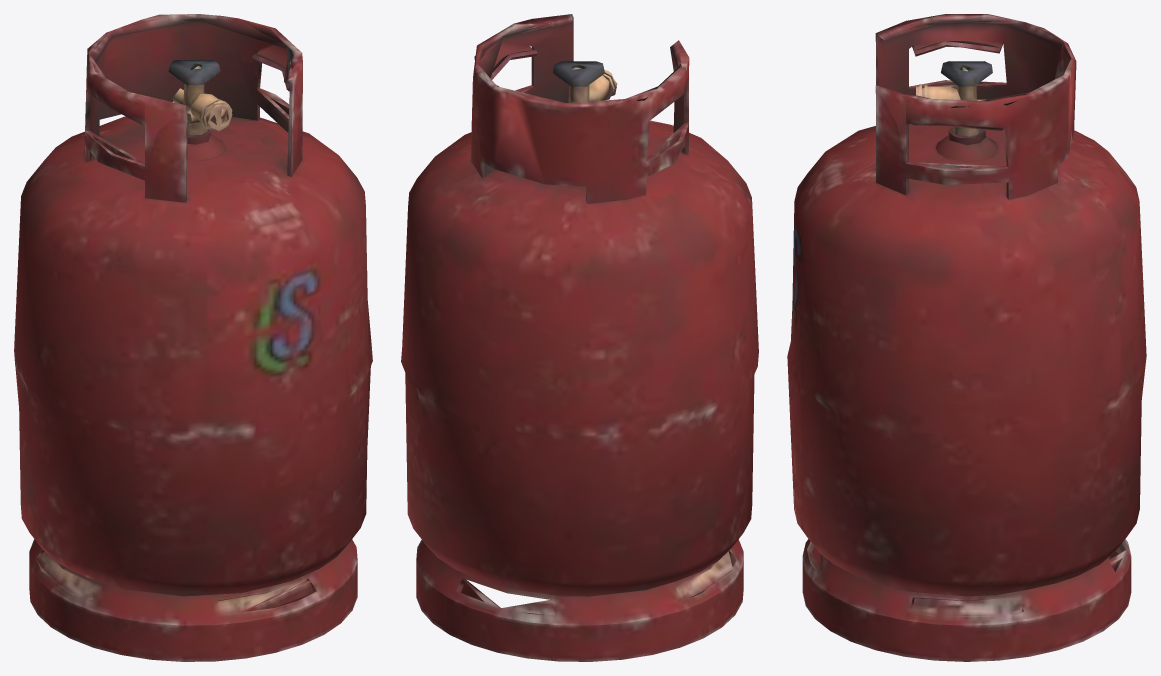
The model's file is propane_tank.glb.
The picture shows the model from 3 angles, left to right: view 1: azimuth 30°, elevation 25°; view 2: azimuth 150°, elevation 25°; view 3: azimuth 270°, elevation 25°; orthographic projection.
Parts seen in each view (by area): view 1: propane_tank, propane_tank_lo; view 2: propane_tank, propane_tank_lo; view 3: propane_tank, propane_tank_lo.
Boxes of the visible parts, <box> form: propane_tank: <box>14,14,372,661</box>; propane_tank_lo: <box>15,14,371,624</box>; propane_tank: <box>401,14,758,661</box>; propane_tank_lo: <box>417,14,749,616</box>; propane_tank: <box>787,14,1146,661</box>; propane_tank_lo: <box>797,20,1146,661</box>.
Bounding box in the file's own units: 0.3374 × 0.5537 × 0.3374.
1 material, 1 textured.
